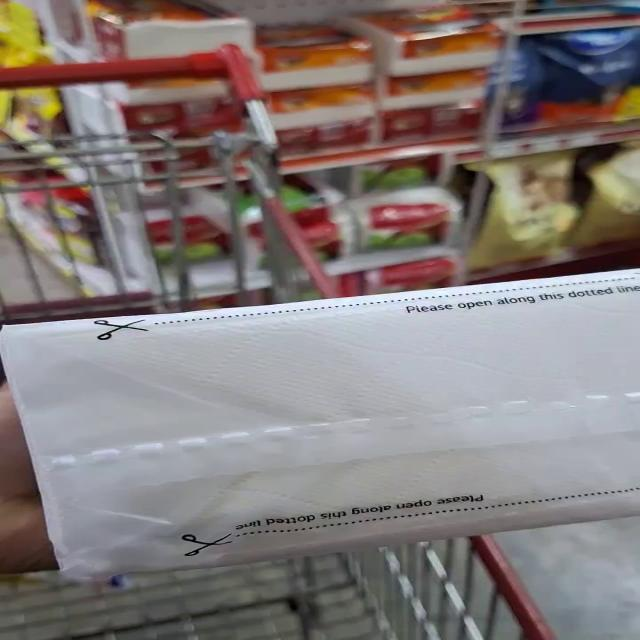Tisu: (26, 263, 640, 582)
